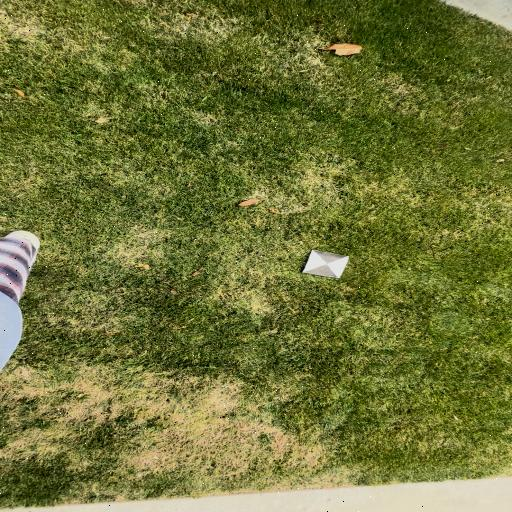target: (303, 250, 349, 278)
